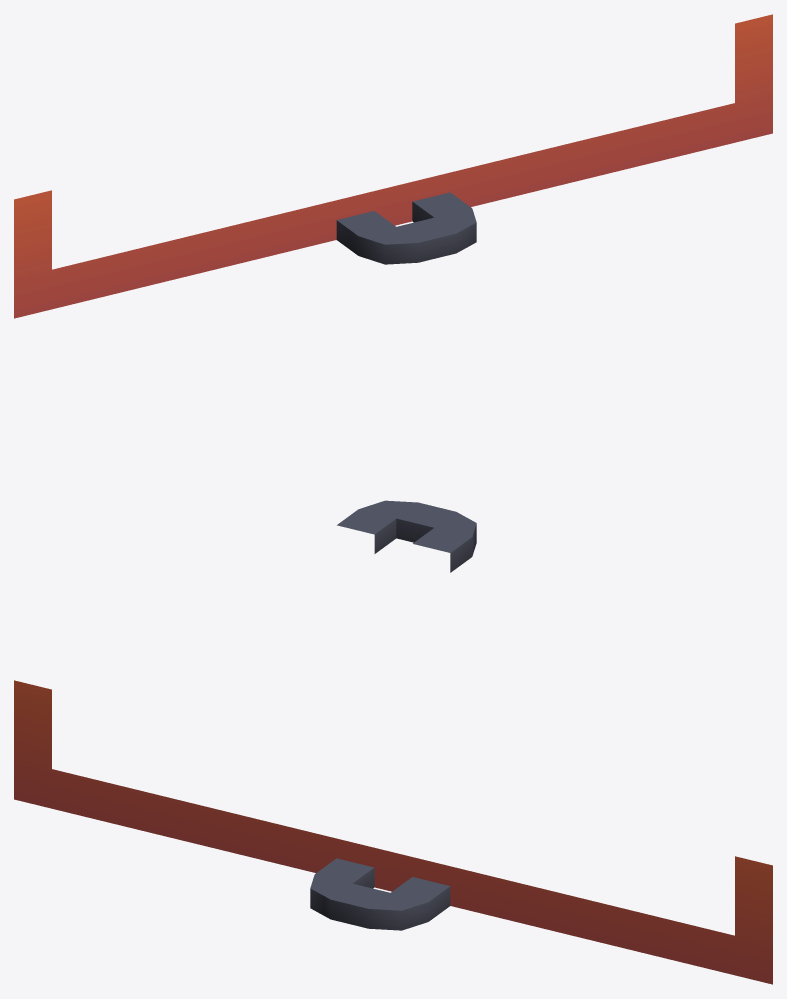
The model's file is kenney-toy-car-track-striped-wide-cap-back.glb.
The picture shows the model from 3 angles, top to bottom: view 1: azimuth 30°, elevation 25°; view 2: azimuth 150°, elevation 25°; view 3: azimuth 330°, elevation 25°; orthographic projection.
Parts seen in each view (by area): view 1: track-striped-wide-cap-back; view 2: track-striped-wide-cap-back; view 3: track-striped-wide-cap-back.
Boxes of the visible parts, bbox=[...] form: track-striped-wide-cap-back: bbox=[14, 14, 772, 318]; track-striped-wide-cap-back: bbox=[337, 500, 476, 572]; track-striped-wide-cap-back: bbox=[14, 680, 772, 984].
Bounding box in the file's own units: 2 × 0.3001 × 0.2.
Materials: 1 (1 with a texture image).
